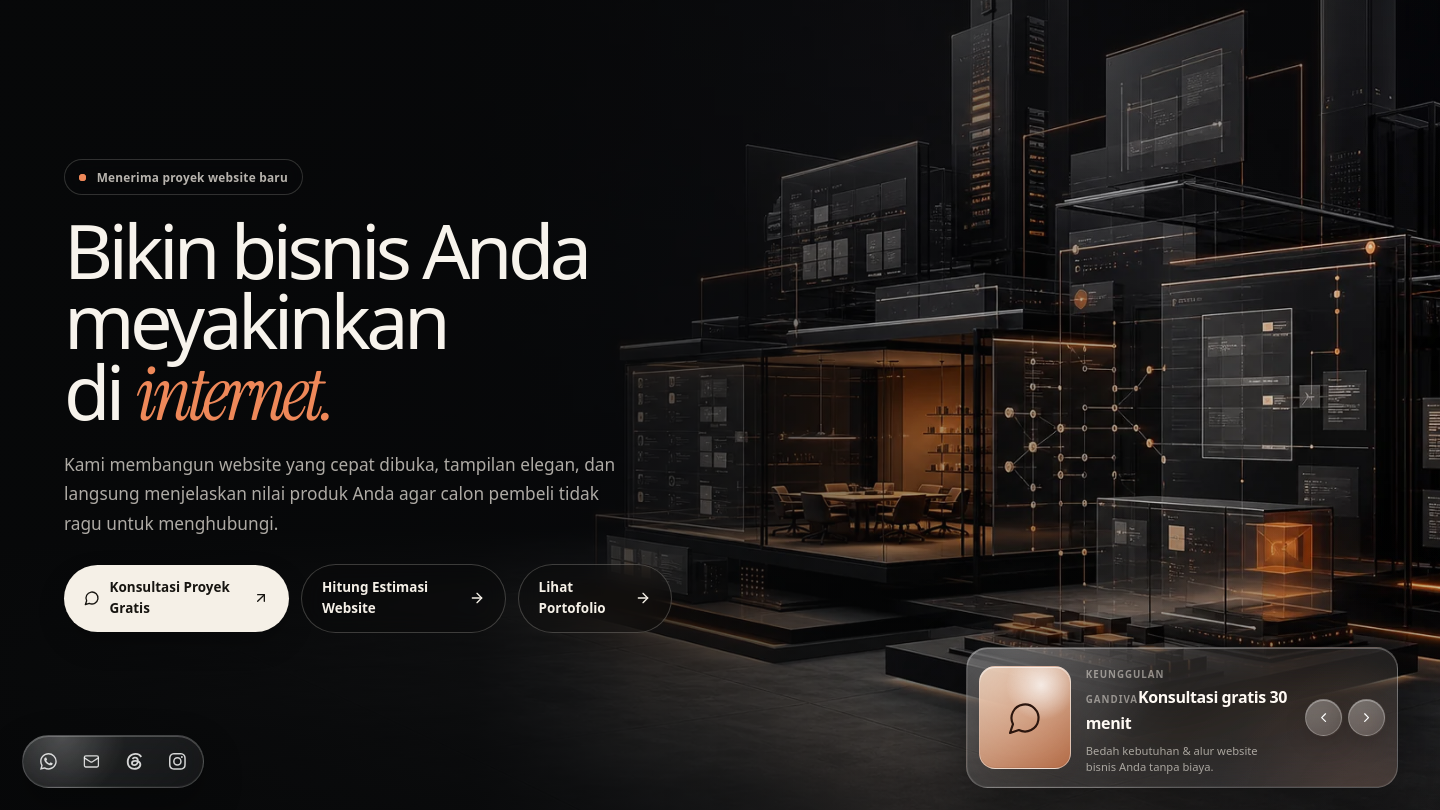
Gandiva Labs hero › menyediakan empat kanal kontak dan carousel keunggulan
Expected: the number of links with class "hero-social-link" is 4, [40, 753, 57, 770]; [83, 753, 100, 770]; [126, 753, 143, 770]; [169, 753, 186, 770]
Expected: the number of pictures with class "hero-brand-icon" is 3, [40, 753, 57, 770]; [126, 753, 143, 770]; [169, 753, 186, 770]
Step 1. Click the button named "Lihat keunggulan berikutnya" → (1367, 718), box [1348, 699, 1385, 736]
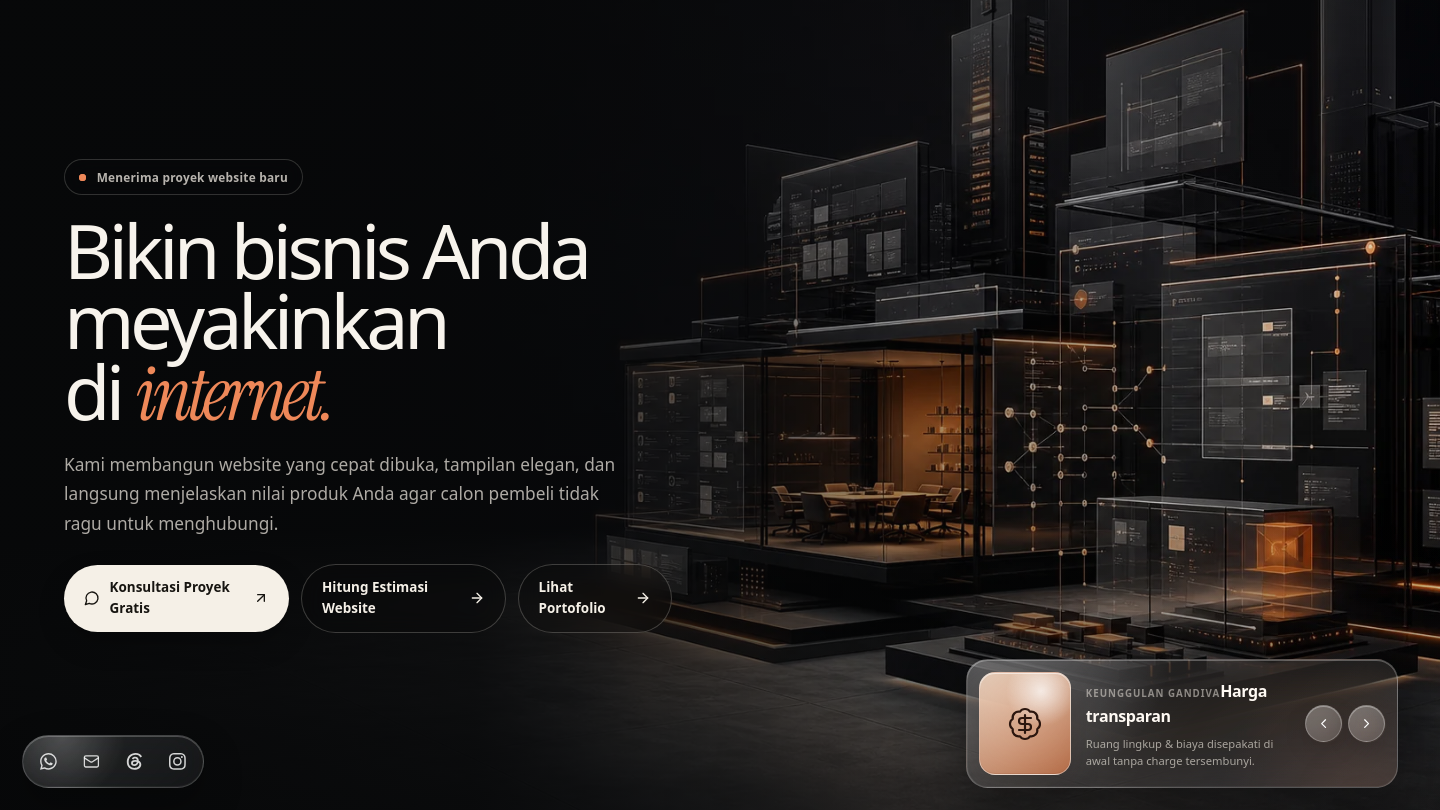
Expected: the element with class "hero-benefit-card" shows "Harga transparan", [1086, 680, 1267, 727]
